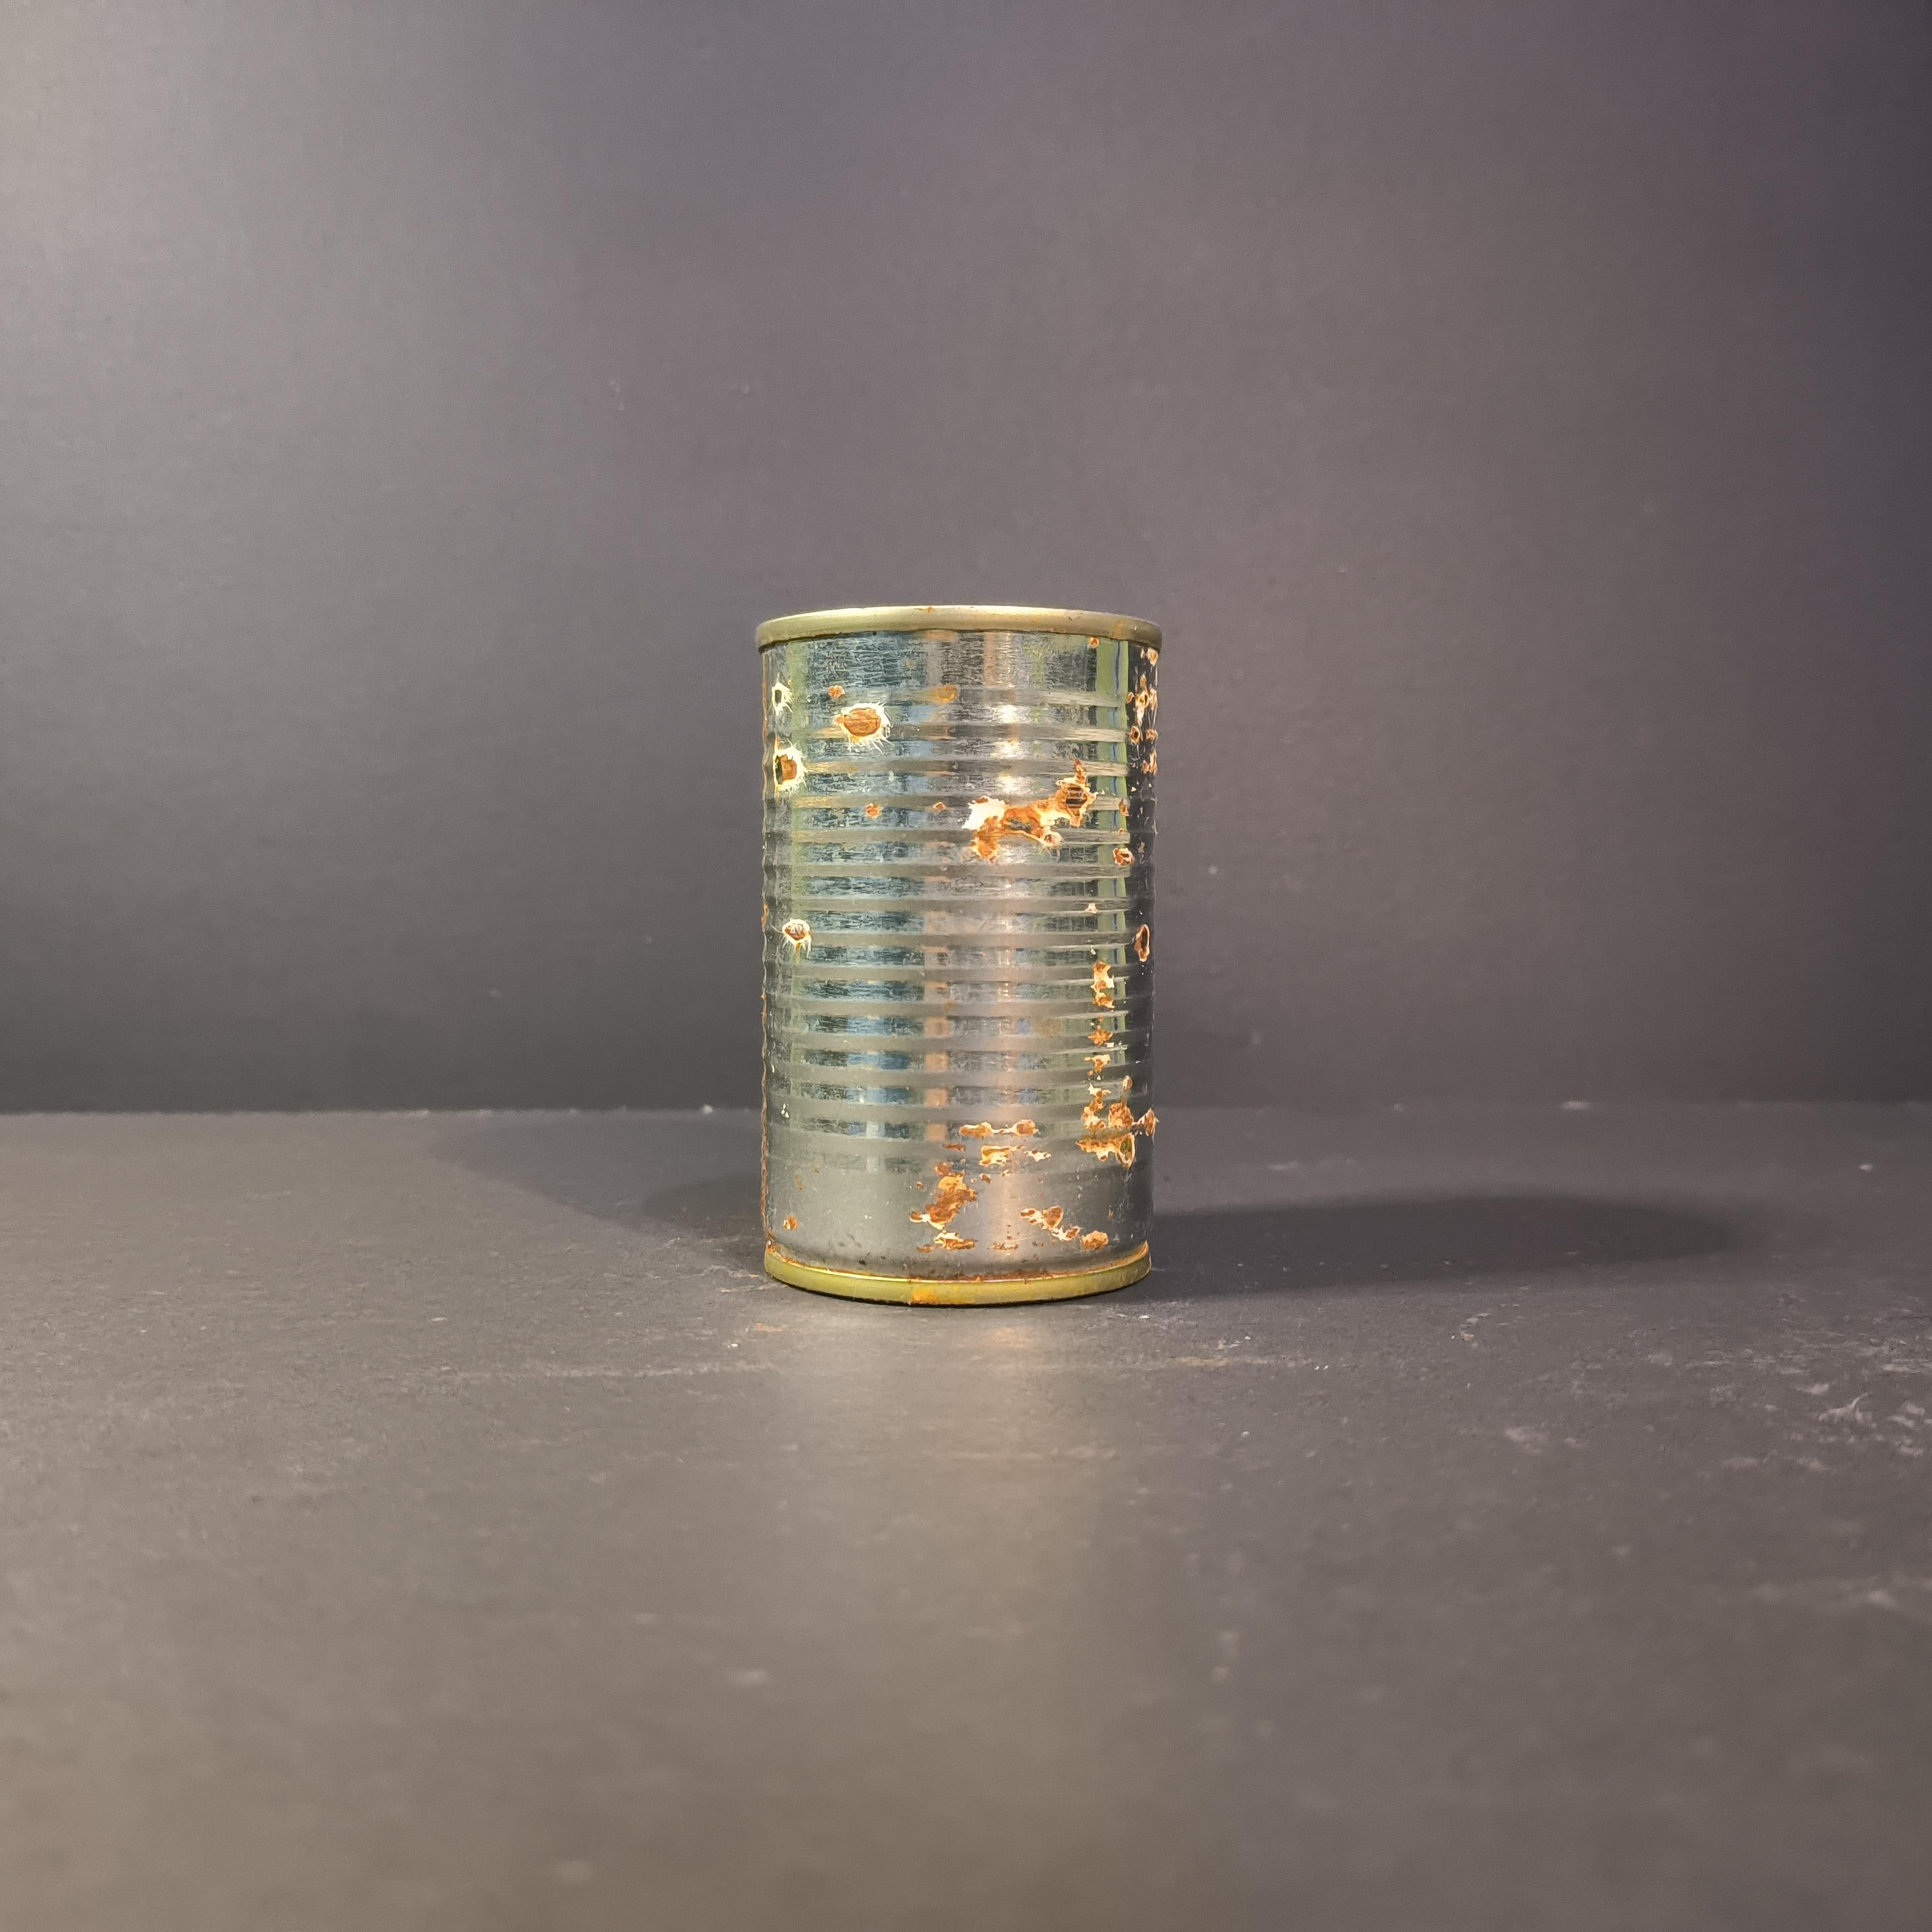Rusted: (732, 582, 1187, 1336)
